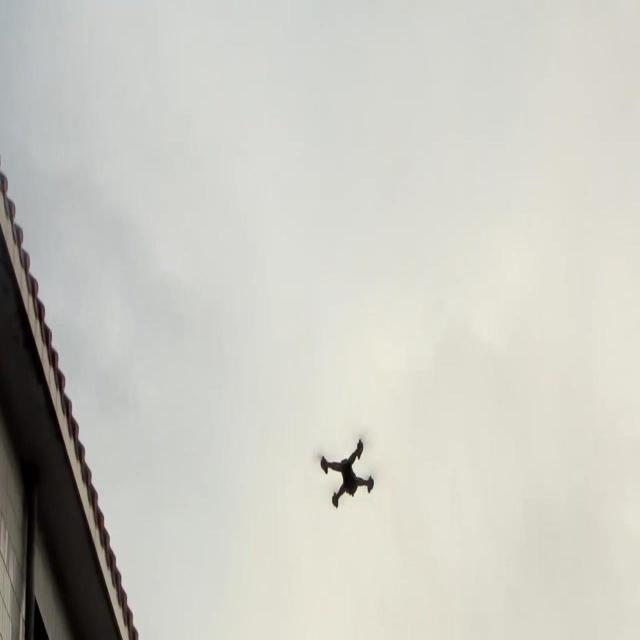drone: (316, 436, 376, 512)
